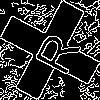R: (25, 25, 83, 78)
